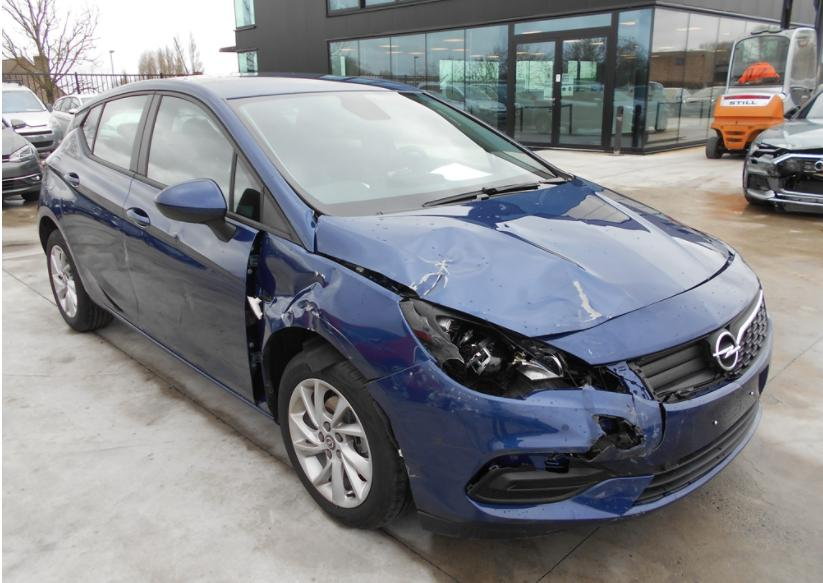Back-door: (59, 89, 152, 326)
Back-wheel: (46, 230, 112, 332)
Back-window: (92, 95, 146, 168), (81, 104, 101, 150)
Fender: (259, 232, 431, 423)
Front-bumper: (364, 325, 771, 545), (545, 251, 760, 365)
Front-door: (123, 89, 303, 405)
Front-wheel: (279, 351, 415, 529)
Front-window: (147, 96, 233, 211), (233, 156, 260, 222)
Grille: (624, 285, 769, 404)
Hood: (316, 174, 728, 340)
Mirror: (155, 178, 237, 243)
Quarter-panel: (36, 137, 95, 296)
Rocker-panel: (89, 296, 266, 416)
Roof: (76, 74, 422, 111)
Windshield: (228, 92, 562, 218)
